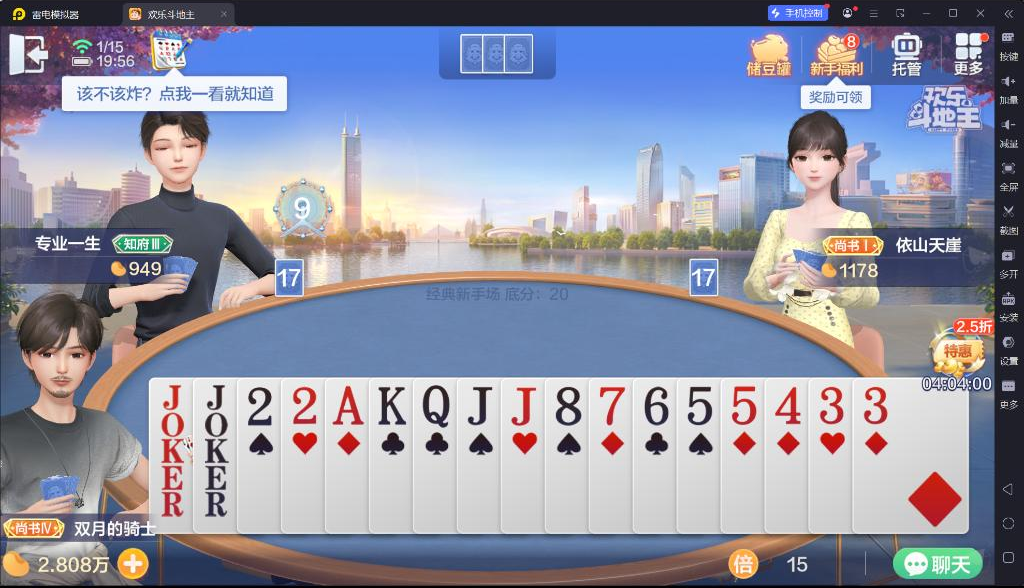A: (329, 384, 367, 428)
J: (459, 383, 495, 427), (506, 383, 540, 427)
JOKER: (156, 381, 186, 467)
K: (375, 383, 408, 428)
Q: (418, 382, 453, 430)
eight: (552, 384, 584, 428)
five: (681, 384, 715, 428), (726, 383, 760, 427)
four: (772, 385, 803, 426)
joker: (202, 382, 232, 465)
seven: (595, 384, 628, 428)
six: (640, 384, 672, 428)
three: (815, 384, 846, 426), (860, 384, 890, 426)
two: (287, 384, 321, 426), (244, 384, 275, 427)
